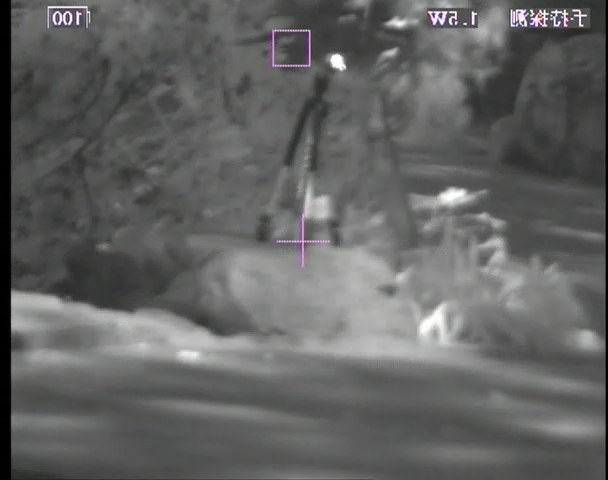my: (329, 52, 345, 71)
